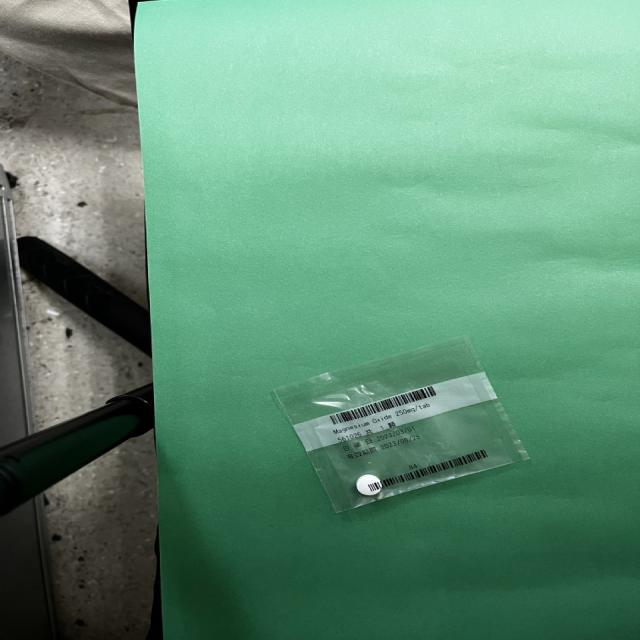Other Objects: (275, 339, 529, 512)
